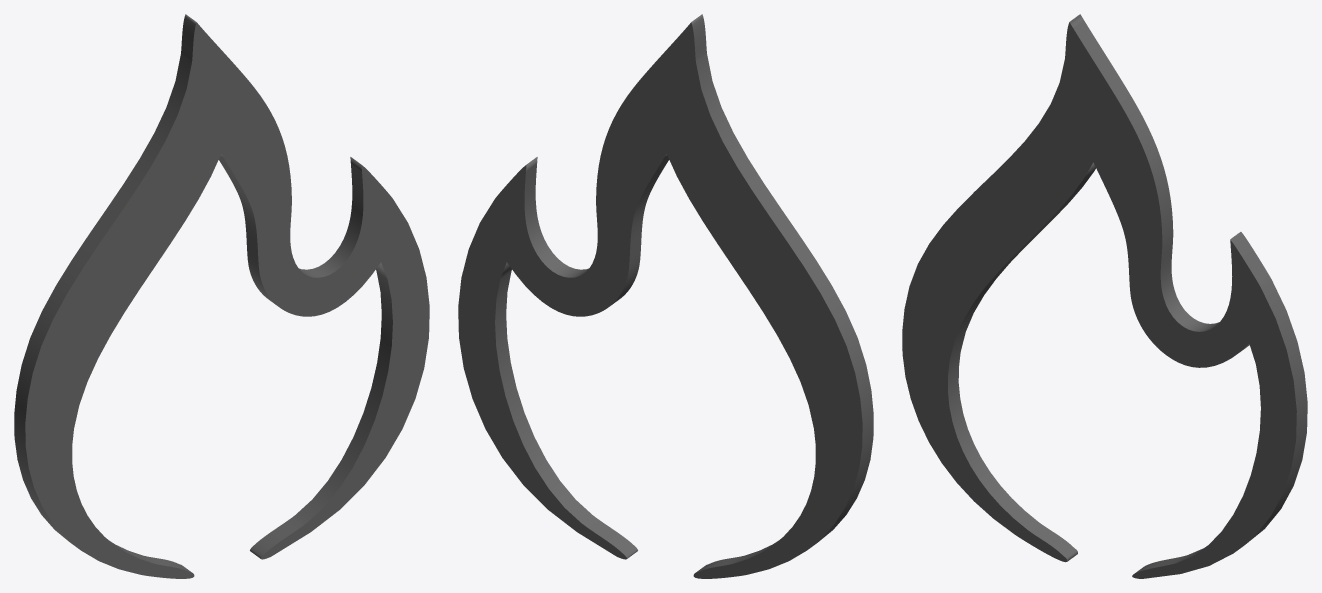
Rendered from flame.glb.
The picture shows the model from 3 angles, left to right: view 1: azimuth 30°, elevation 25°; view 2: azimuth 150°, elevation 25°; view 3: azimuth 330°, elevation 25°; orthographic projection. The views are drawn at different scales.
Visible parts, largest first — view 1: Curve; view 2: Curve; view 3: Curve.
Boxes of the visible parts, x1,y1,x2,y2 form: Curve: (14, 14, 429, 578); Curve: (458, 14, 873, 578); Curve: (902, 14, 1307, 578).
Size of the model in its own units: 3.2 by 4.19 by 0.1529.
1 material, 1 textured.
